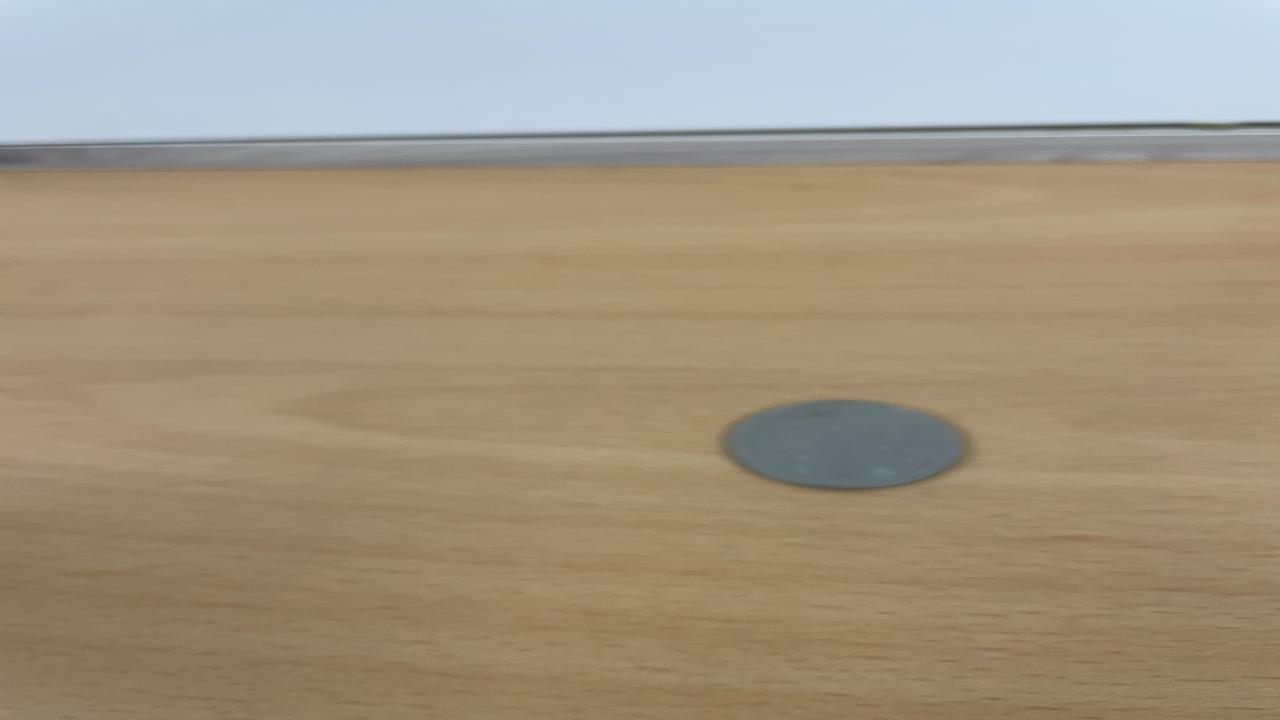coin: (714, 395, 979, 494)
